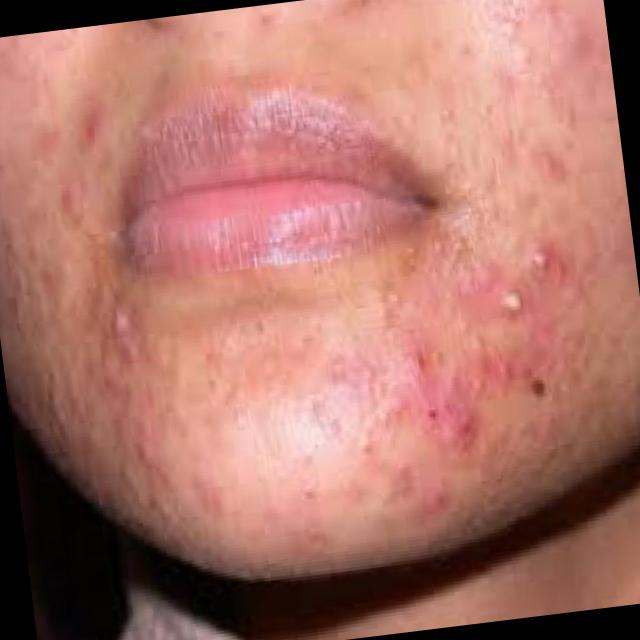blackhead: (532, 380, 547, 397)
